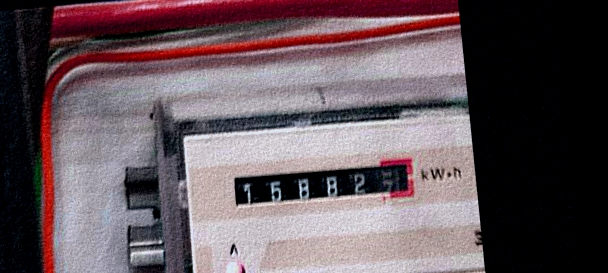1: (240, 181, 256, 204)
2: (350, 171, 369, 197)
5: (268, 178, 284, 204)
7: (381, 176, 395, 194)
8: (324, 174, 340, 200), (296, 177, 311, 201)
screen: (223, 150, 425, 224)
